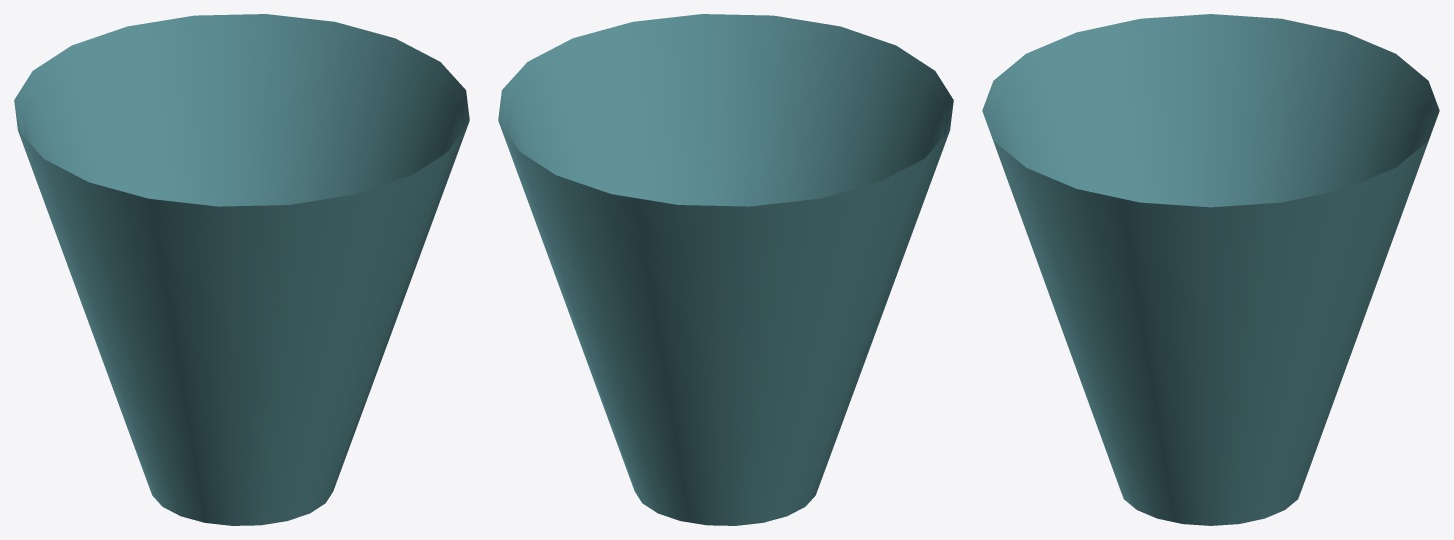
The model's file is MATTER_STREAM_MESH.fbx.
3 renders of one model, left to right at view 1: azimuth 30°, elevation 25°; view 2: azimuth 150°, elevation 25°; view 3: azimuth 270°, elevation 25°, orthographic.
Visible parts, largest first — view 1: GLOW_GEOM; view 2: GLOW_GEOM; view 3: GLOW_GEOM.
Boxes of the visible parts, box(x1,y1,x2,y2) form: GLOW_GEOM: box(14, 14, 469, 525); GLOW_GEOM: box(498, 14, 953, 525); GLOW_GEOM: box(982, 14, 1439, 525).
Size of the model in its own units: 1.99 by 1.81 by 1.99.
